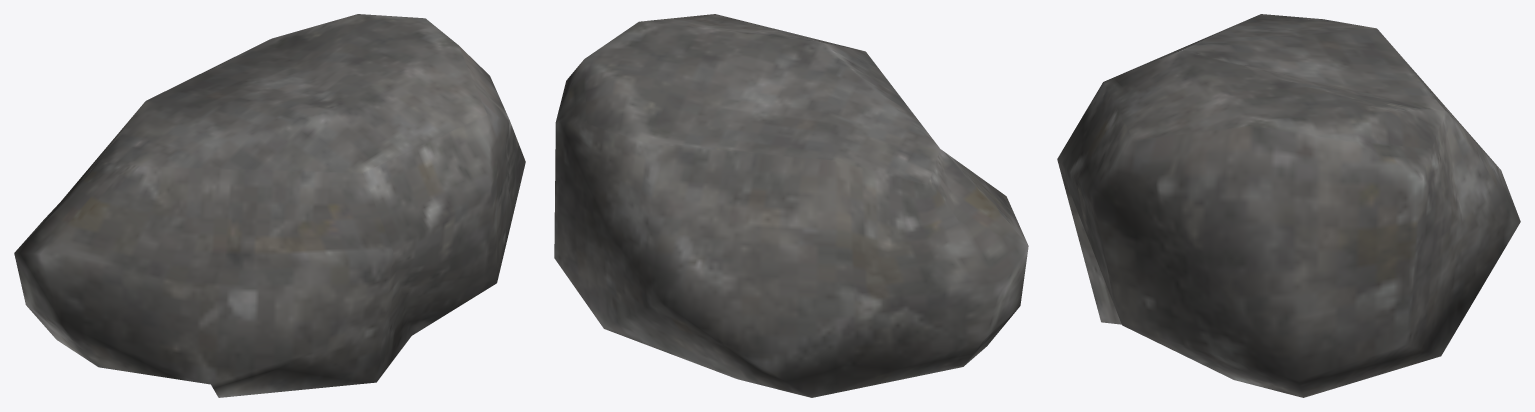
The model's file is objects_un_a_w23rock01_05_l2.gltf.
The picture shows the model from 3 angles, left to right: view 1: azimuth 30°, elevation 25°; view 2: azimuth 150°, elevation 25°; view 3: azimuth 270°, elevation 25°; orthographic projection. The views are drawn at different scales.
Visible parts, largest first — view 1: um_objects_un_a_w23rock01_05_l2_model_lod0Shape:objects_un_a; view 2: um_objects_un_a_w23rock01_05_l2_model_lod0Shape:objects_un_a; view 3: um_objects_un_a_w23rock01_05_l2_model_lod0Shape:objects_un_a.
Part boxes in pixels (x1,y1,x2,y2): um_objects_un_a_w23rock01_05_l2_model_lod0Shape:objects_un_a: (14, 14, 525, 397); um_objects_un_a_w23rock01_05_l2_model_lod0Shape:objects_un_a: (554, 14, 1028, 397); um_objects_un_a_w23rock01_05_l2_model_lod0Shape:objects_un_a: (1057, 14, 1520, 397).
Size of what is drawn, in the model's own units: 1.18 by 0.6121 by 0.9292.
Materials: 2 (1 with a texture image).
